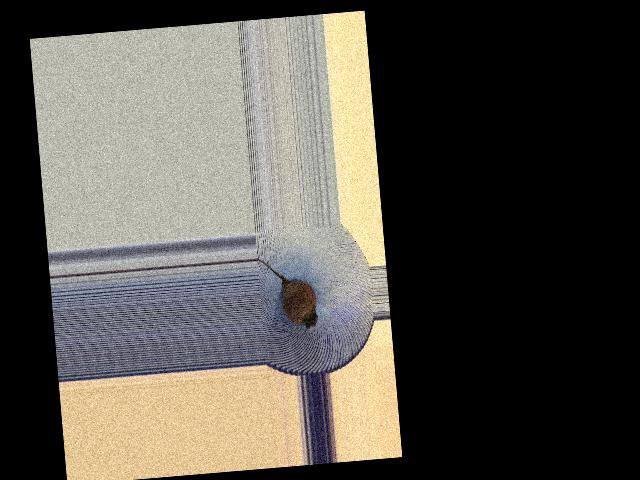beet: (256, 254, 318, 332)
